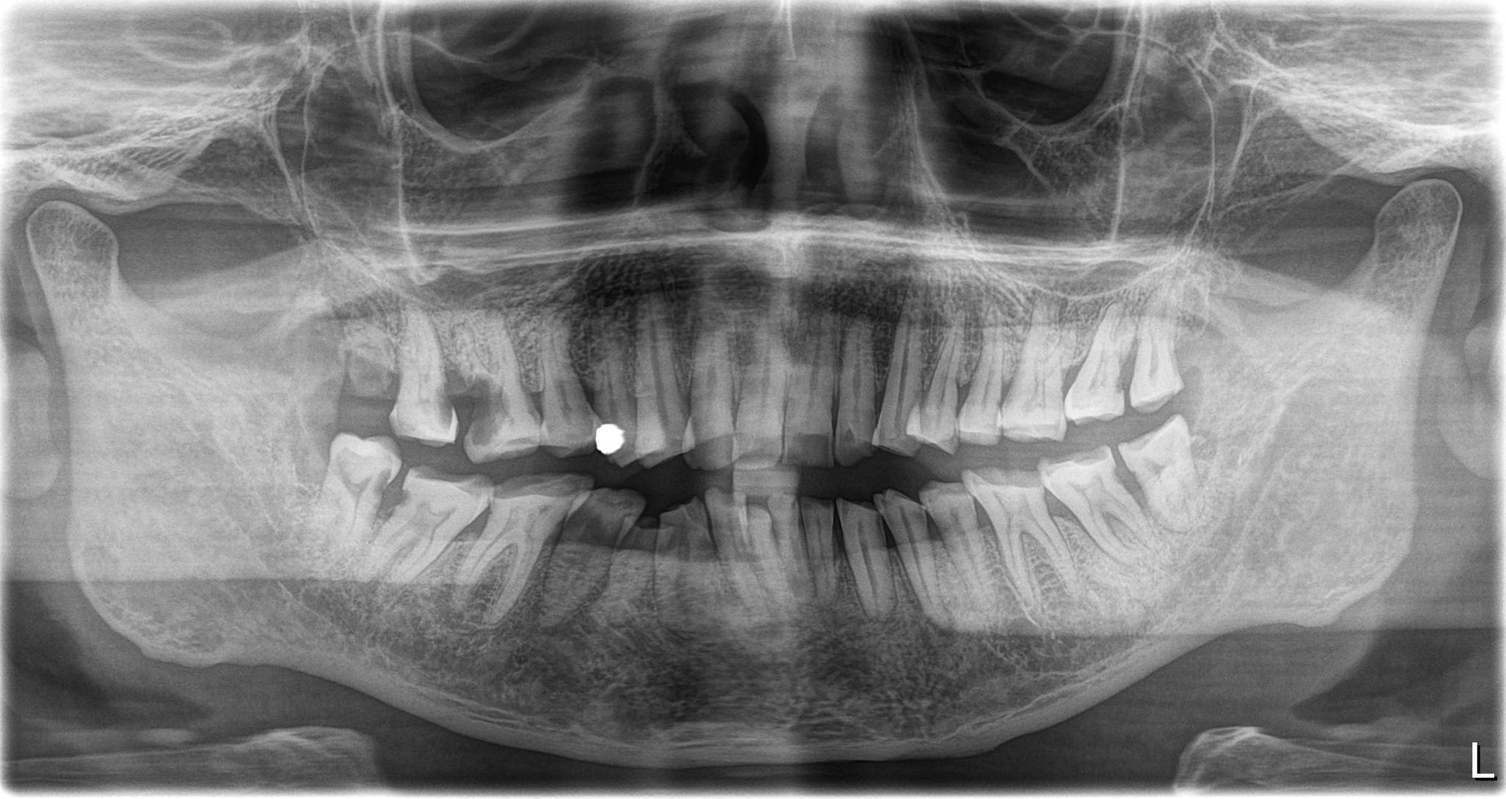Dental Caries: (447, 366, 514, 427)
Missing Tooth: (331, 333, 383, 437)
Periapical Lesion: (559, 518, 638, 622)
